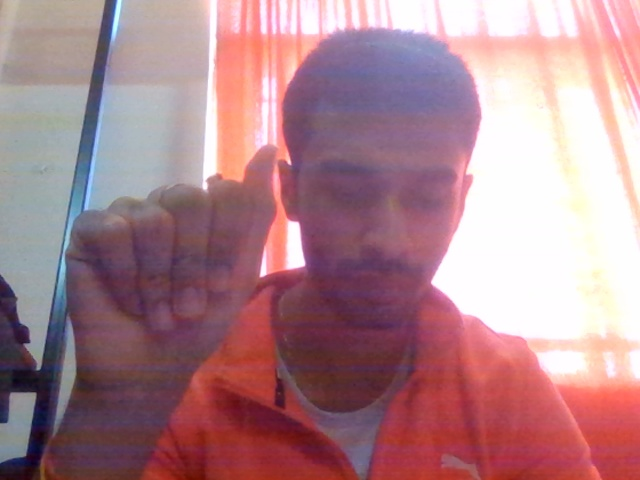A: (38, 141, 288, 419)
